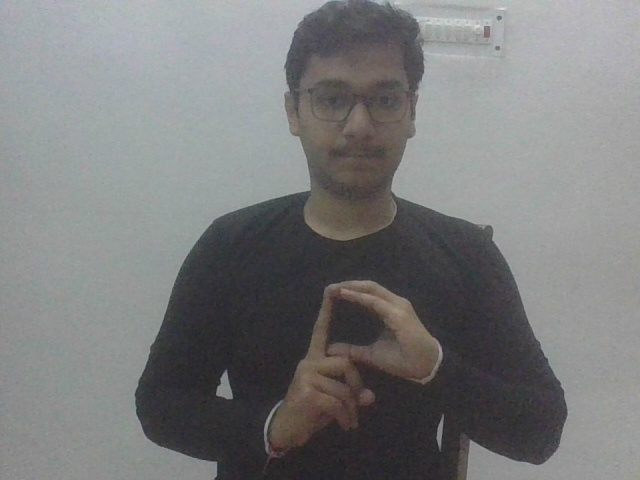D: (256, 276, 446, 463)
